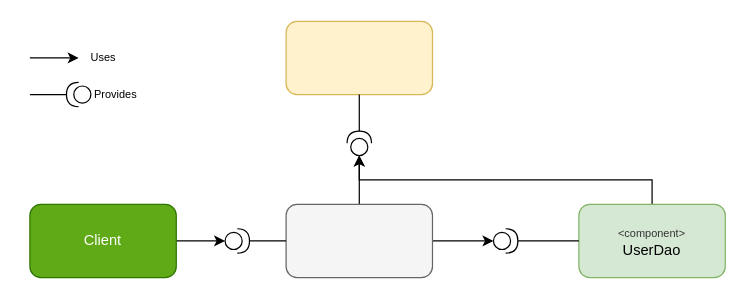
Some shapes in this 747 by 299 pixel diagram are drawn without their labels. Each missing label, with the box of its shape:
<component> LoggingProducer: (285, 20, 432, 95)
<WebService> UserResource: (285, 203, 432, 278)
